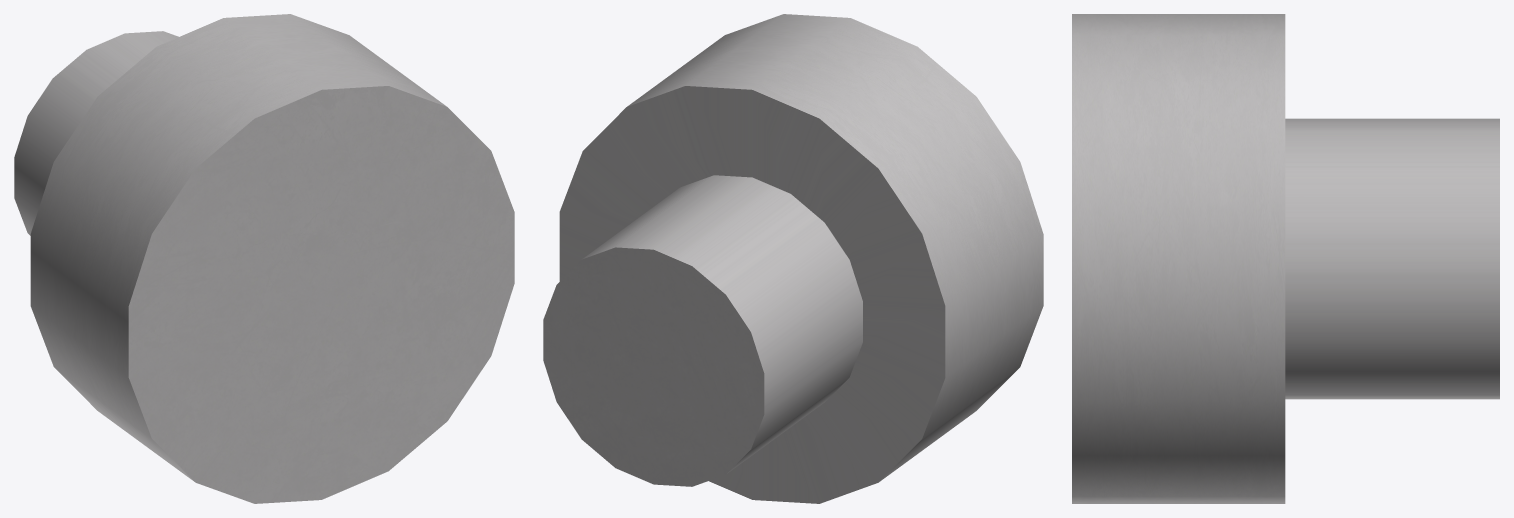
File: Start.fbx
The picture shows the model from 3 angles, left to right: view 1: azimuth 30°, elevation 25°; view 2: azimuth 150°, elevation 25°; view 3: azimuth 270°, elevation 25°; orthographic projection. The views are drawn at different scales.
Parts seen in each view (by area): view 1: Cylinder.050; view 2: Cylinder.050; view 3: Cylinder.050.
Part boxes in pixels (left/top/right/bottom): Cylinder.050: left=14, top=14, right=514, bottom=503; Cylinder.050: left=543, top=14, right=1043, bottom=503; Cylinder.050: left=1072, top=14, right=1499, bottom=503.
Size of the model in its own units: 173 by 176 by 153.
Materials: 1 (1 with a texture image).
